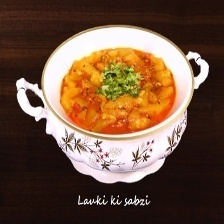sabzi: (52, 45, 179, 135)
